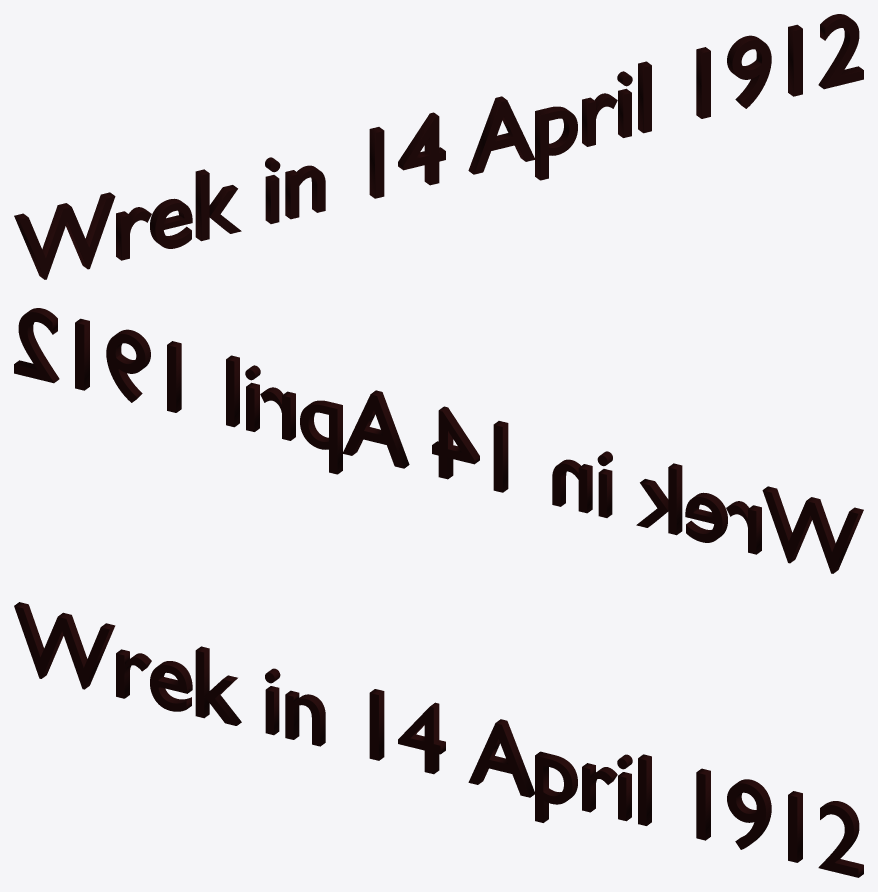
File: text_tragedy01.glb
The picture shows the model from 3 angles, top to bottom: view 1: azimuth 30°, elevation 25°; view 2: azimuth 150°, elevation 25°; view 3: azimuth 330°, elevation 25°; orthographic projection.
Visible parts, largest first — view 1: tragedy01; view 2: tragedy01; view 3: tragedy01.
Boxes of the visible parts, <box> form: tragedy01: <box>14,14,863,279</box>; tragedy01: <box>14,308,863,573</box>; tragedy01: <box>14,602,863,877</box>.
Size of the model in its own units: 158 by 15.9 by 1.79.
